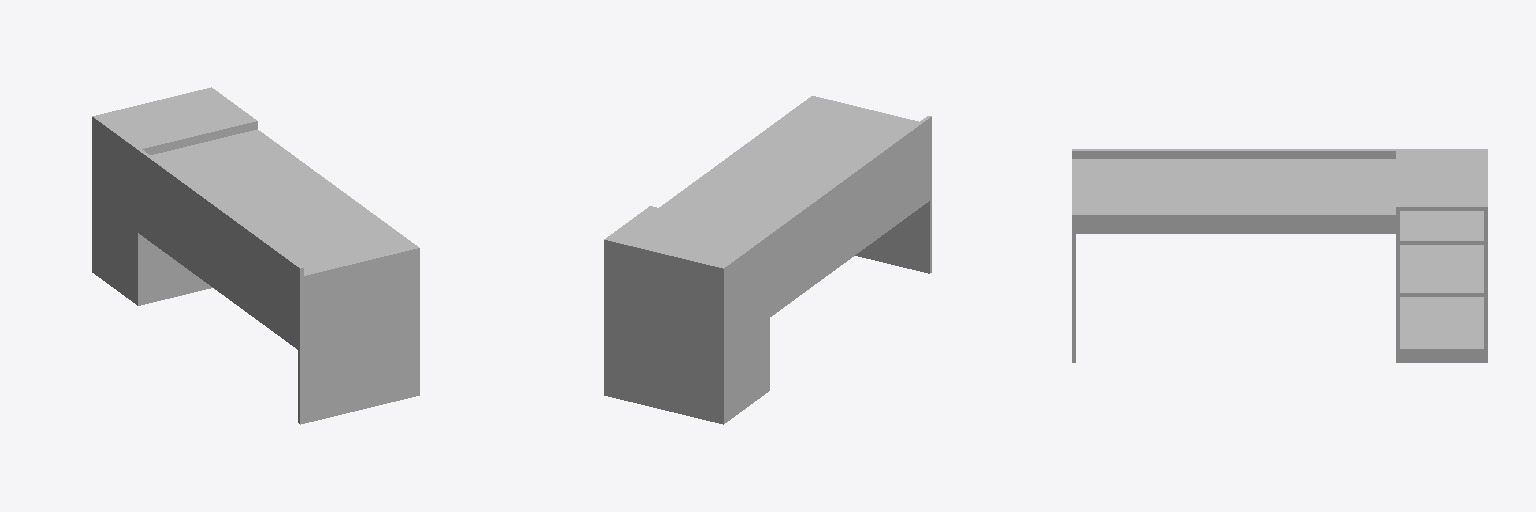
The model's file is desk.obj.
3 renders of one model, left to right at view 1: azimuth 30°, elevation 25°; view 2: azimuth 150°, elevation 25°; view 3: azimuth 270°, elevation 25°, orthographic.
Visible parts, largest first — view 1: desk einrichtung; view 2: desk einrichtung; view 3: desk einrichtung.
Part boxes in pixels (left/top/right/bottom): desk einrichtung: left=92, top=87, right=419, bottom=424; desk einrichtung: left=604, top=96, right=931, bottom=424; desk einrichtung: left=1072, top=149, right=1487, bottom=362.
Bounding box in the file's own units: 0.8705 × 1.09 × 2.63.